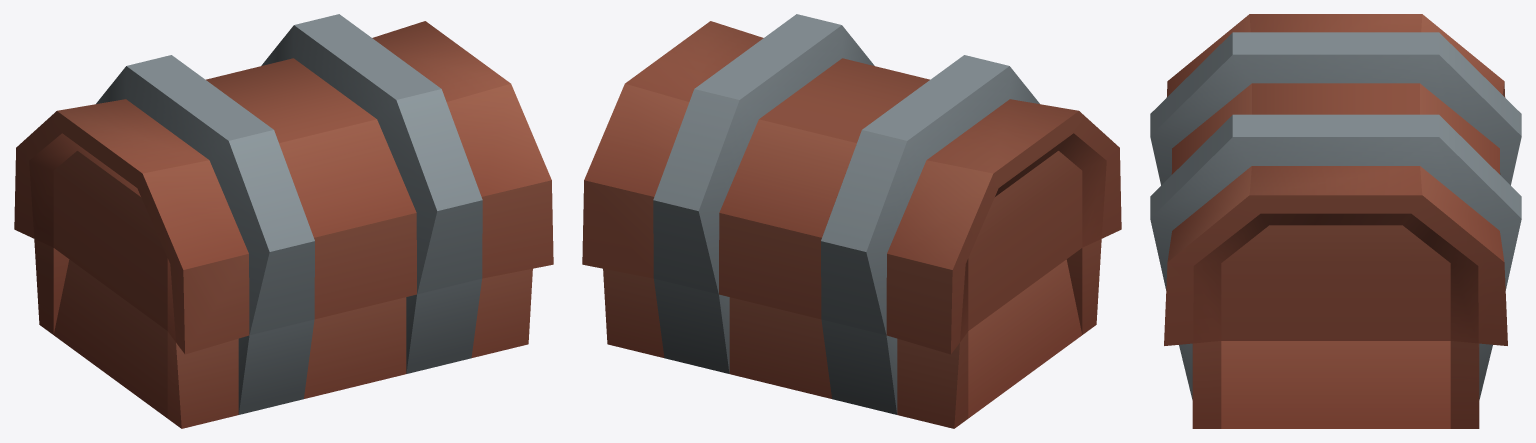
Rendered from trunk_large_A.gltf.
3 views of the same model, side by side, from view 1: azimuth 30°, elevation 25°; view 2: azimuth 150°, elevation 25°; view 3: azimuth 270°, elevation 25° (orthographic).
Parts seen in each view (by area): view 1: trunk_large_A; view 2: trunk_large_A; view 3: trunk_large_A.
Boxes of the visible parts, box(x1,y1,x2,y2) form: trunk_large_A: box(14, 14, 553, 428); trunk_large_A: box(582, 14, 1121, 428); trunk_large_A: box(1150, 14, 1521, 428).
Size of the model in its own units: 1.5 by 1 by 1.3.
Materials: 1 (1 with a texture image).
